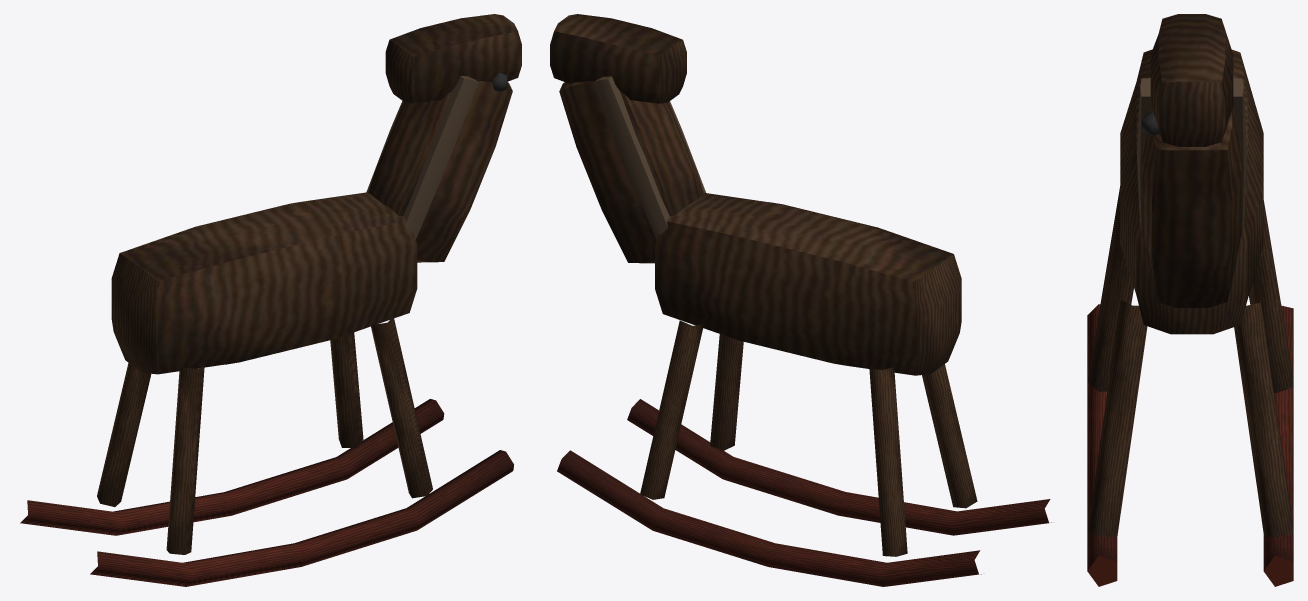
The model's file is rocking_horse.glb.
3 views of the same model, side by side, from view 1: azimuth 30°, elevation 25°; view 2: azimuth 150°, elevation 25°; view 3: azimuth 270°, elevation 25° (orthographic). The views are drawn at different scales.
Parts seen in each view (by area): view 1: rocking_horse; view 2: rocking_horse; view 3: rocking_horse.
Part boxes in pixels (left/top/right/bottom): rocking_horse: left=20, top=14, right=521, bottom=586; rocking_horse: left=550, top=14, right=1051, bottom=586; rocking_horse: left=1087, top=14, right=1293, bottom=586.
Bounding box in the file's own units: 1.22 × 1.18 × 0.3744.
4 materials, 2 textured.
